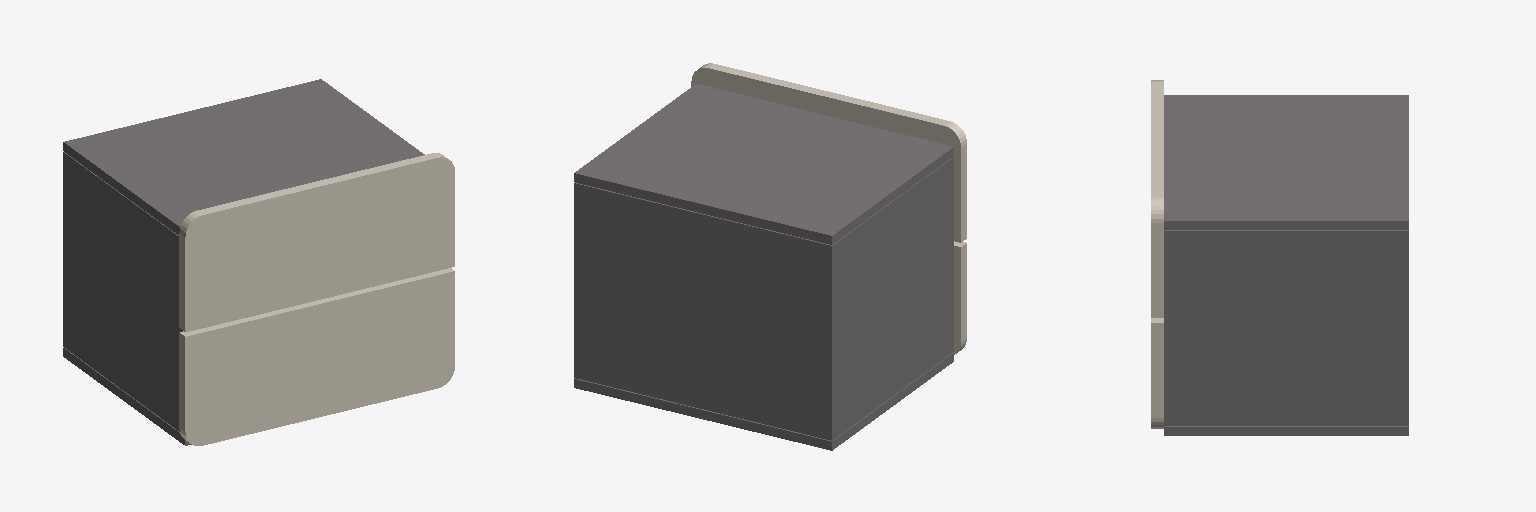
The model's file is 2pir_stolik_nocny.obj.
The picture shows the model from 3 angles: view 1: azimuth 30°, elevation 25°; view 2: azimuth 150°, elevation 25°; view 3: azimuth 270°, elevation 25°; orthographic projection.
Parts seen in each view (by area): view 1: Rectangle10, Rectangle11; view 2: Rectangle11, Rectangle10; view 3: Rectangle11, Rectangle10.
Boxes of the visible parts, <box> form: Rectangle10: <box>179,153,454,445</box>; Rectangle11: <box>63,79,424,445</box>; Rectangle11: <box>574,84,953,450</box>; Rectangle10: <box>691,63,966,354</box>; Rectangle11: <box>1164,95,1408,435</box>; Rectangle10: <box>1151,80,1163,428</box>.
Size of the model in its own units: 50.85 by 42.01 by 41.99.